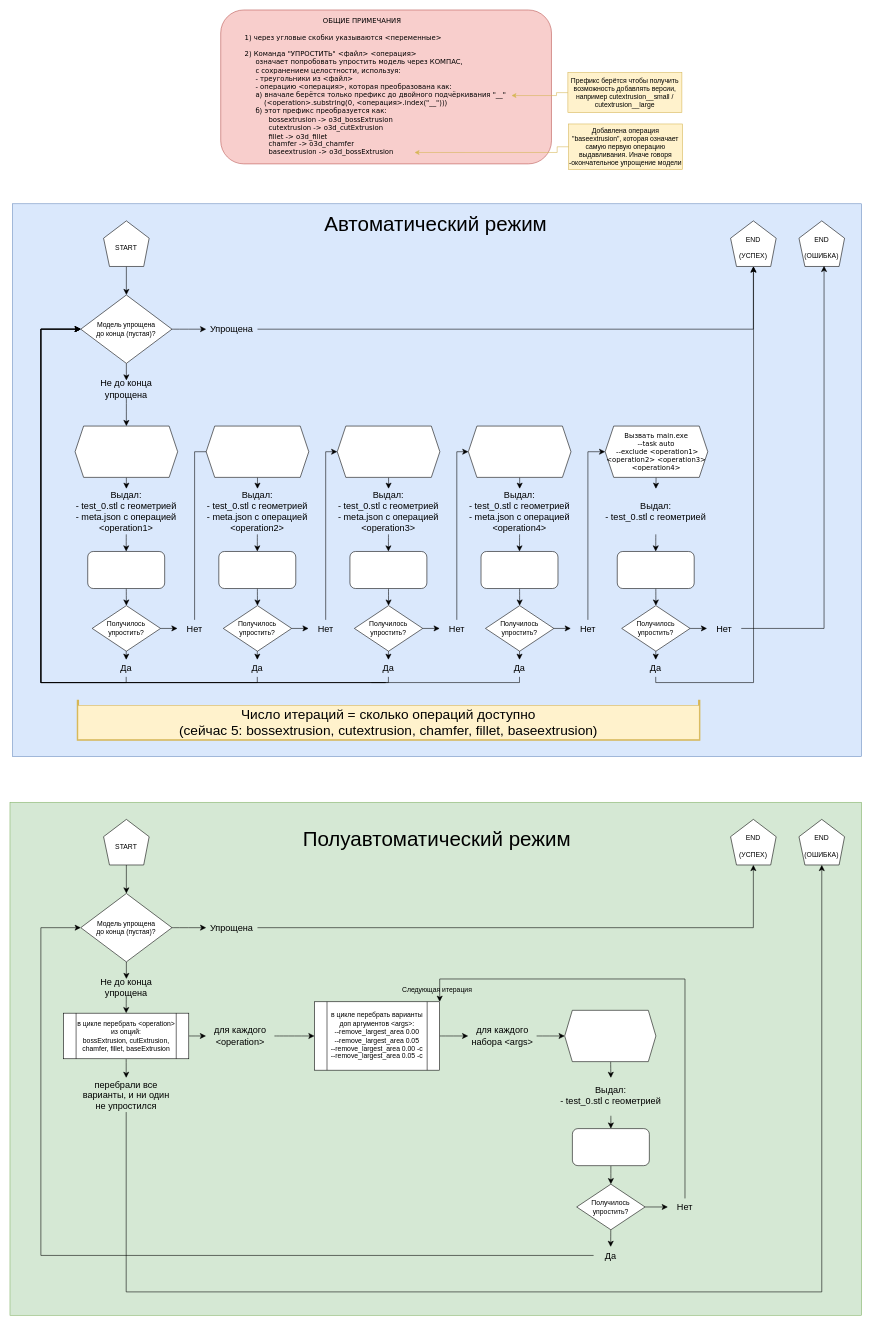
Image size: 872x1325. Some labels were removed from this diagram. Here are the shapes that lost their labels. From the top down, the centre of each, then its label:
the point at 126,451: Вызвать mai n.exe --task auto
the point at 257,451: Вызвать mai n.exe --task auto --exclude <operation1>
the point at 388,451: Вызвать mai n.exe --task auto --exclude <operation1> <operation2>
the point at 519,451: Вызвать mai n.exe --task auto --exclude <operation1> <operation2> <operation3>
the point at 126,570: "УПРОСТИТЬ" test_0.stl, <operation1>
the point at 257,570: "УПРОСТИТЬ" test_0.stl, <operation2>
the point at 388,570: "УПРОСТИТЬ" test_0.stl, <operation3>
the point at 519,570: "УПРОСТИТЬ" test_0.stl, <operation4>
the point at 655,570: "УПРОСТИТЬ" test_0.stl, bossExtrusion
the point at 610,1036: Вызвать mai n.exe --task segmentation --operation <operation> <args>
the point at 610,1147: "УПРОСТИТЬ" test_0.stl, <operation>
